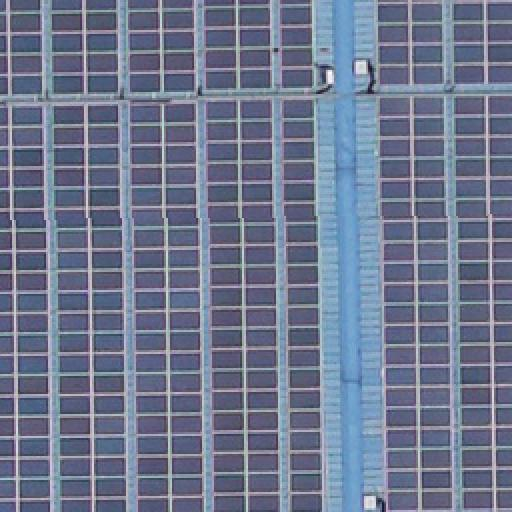solar-panel: (0, 0, 320, 512), (375, 0, 512, 512)
